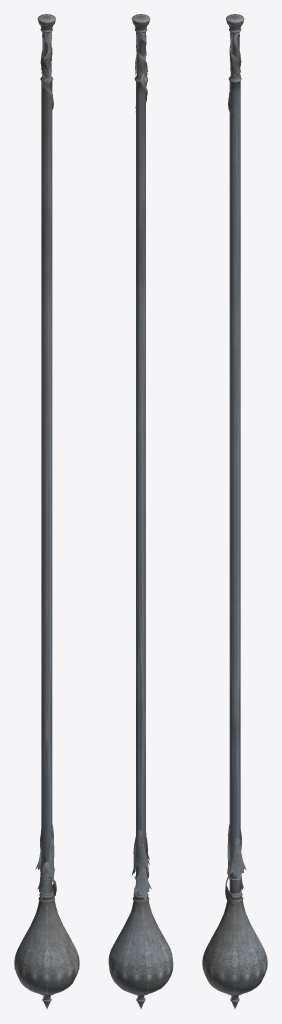
The model's file is weapon-wp_a_0818.glb.
3 views of the same model, side by side, from view 1: azimuth 90°, elevation 25°; view 2: azimuth 150°, elevation 25°; view 3: azimuth 270°, elevation 25° (orthographic).
Visible parts, largest first — view 1: wp_a_0818_mesh; view 2: wp_a_0818_mesh; view 3: wp_a_0818_mesh.
Part boxes in pixels (x1,y1,x2,y2): wp_a_0818_mesh: (14, 14, 79, 1009); wp_a_0818_mesh: (108, 14, 173, 1009); wp_a_0818_mesh: (202, 14, 267, 1009).
Size of the model in its own units: 0.2004 by 3.35 by 0.2004.
Materials: 1 (1 with a texture image).
